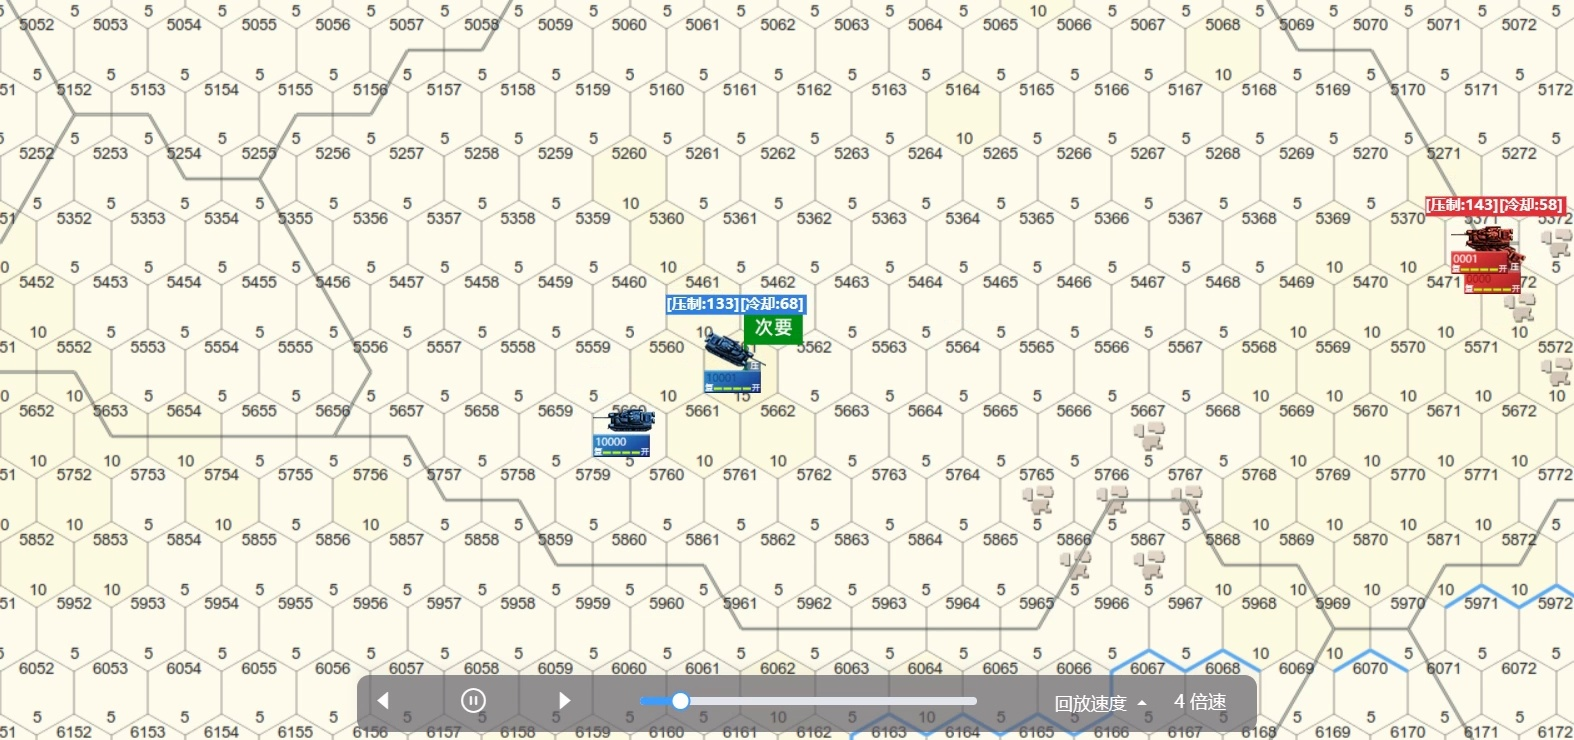blue_tank: (706, 333, 766, 397), (596, 406, 658, 459)
red_tank: (1458, 230, 1524, 295)
